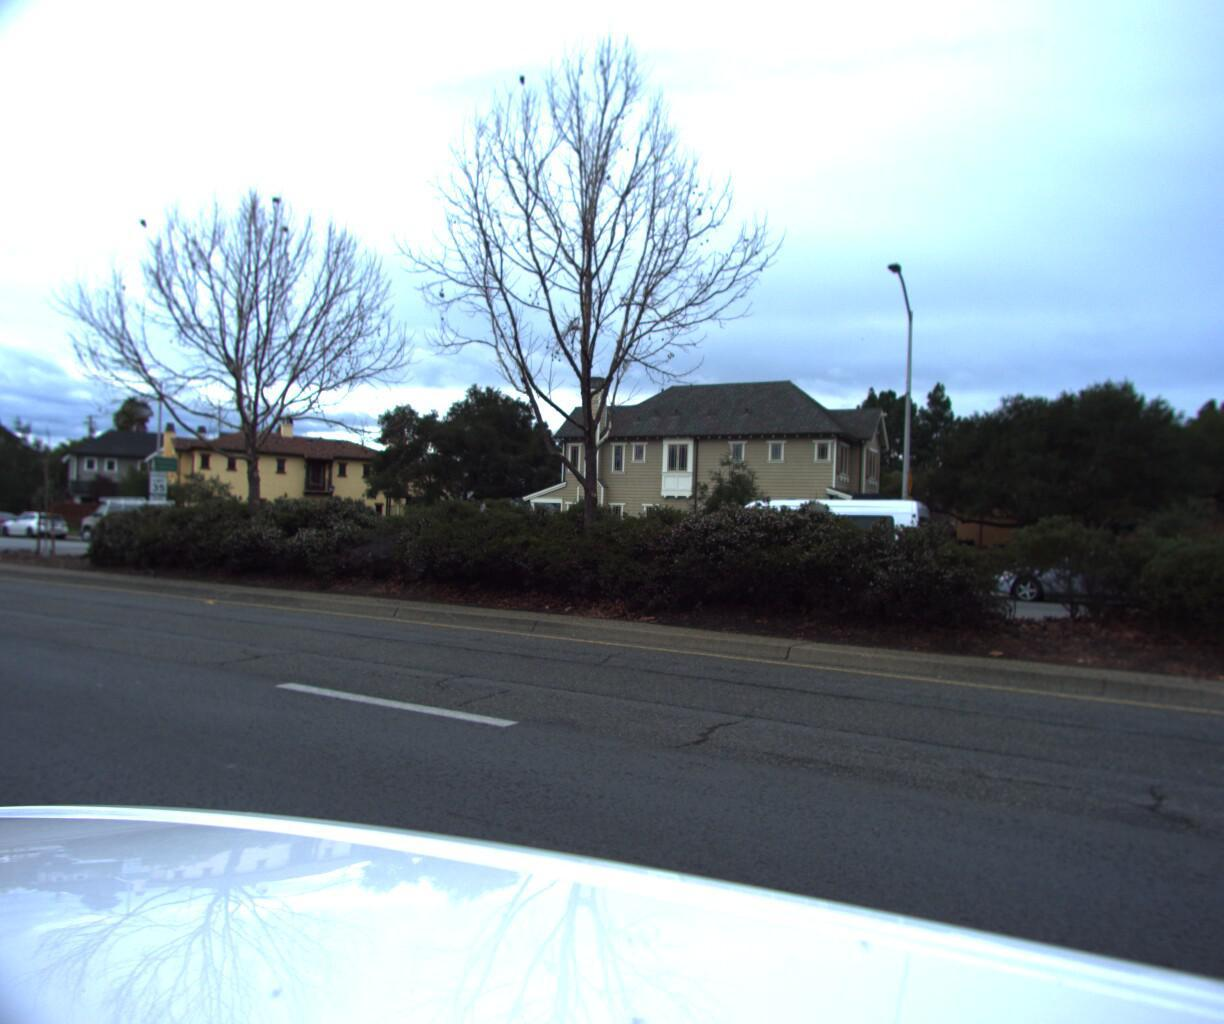car: (667, 486, 942, 596), (973, 538, 1207, 612), (66, 497, 183, 549)
